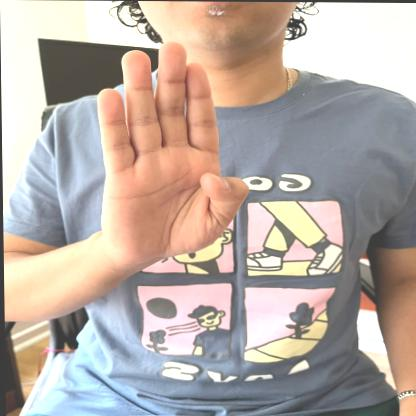B: (88, 40, 247, 263)
